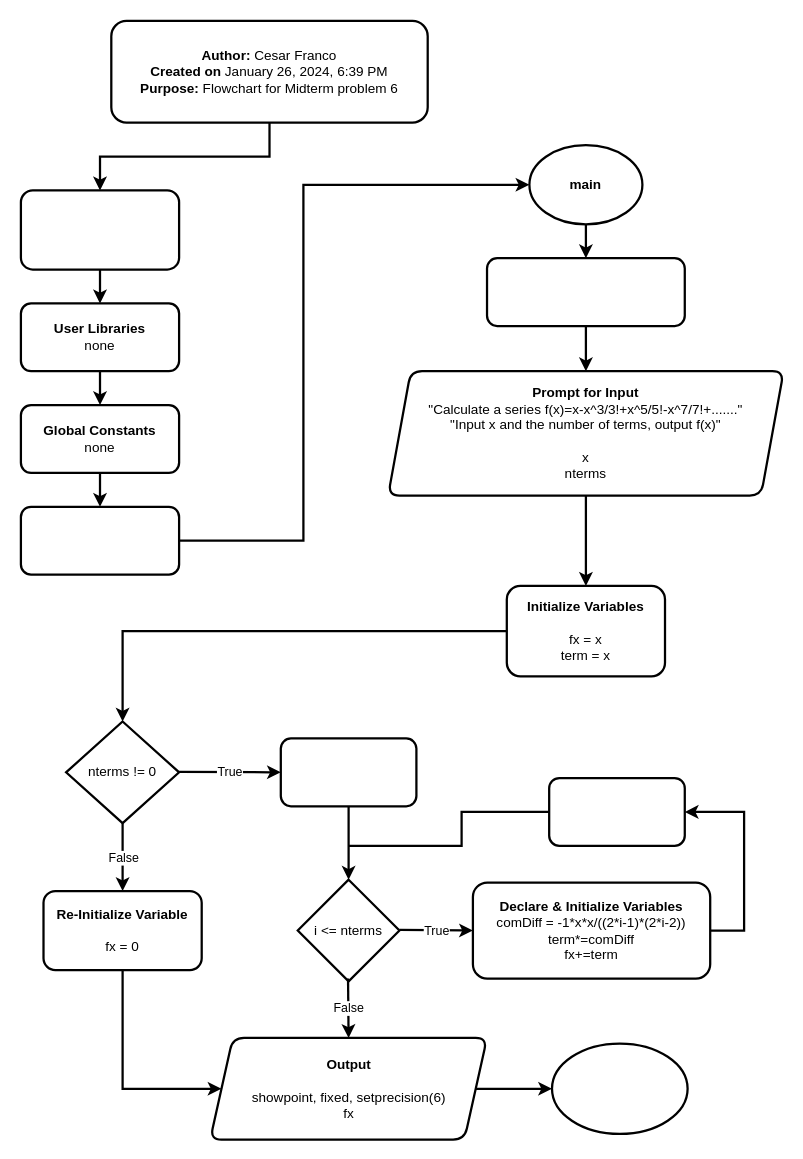
Some shapes in this 803 by 1159 pixel diagram are drawn without their labels. The shapes that lost their labels are listed below. From the top down, each one's centre as x and y in pixels, then its label:
At pixel 99 229: "System Libraries I/O Objects iomanip Standard Namespace".
At pixel 585 292: "Declare Variables float x, fx, term int nterms".
At pixel 99 540: "Function Prototypes none".
At pixel 348 772: "Initialize and Declare For Loop i=2".
At pixel 616 811: "Increment i++".
At pixel 619 1088: "Exit main return 0".
